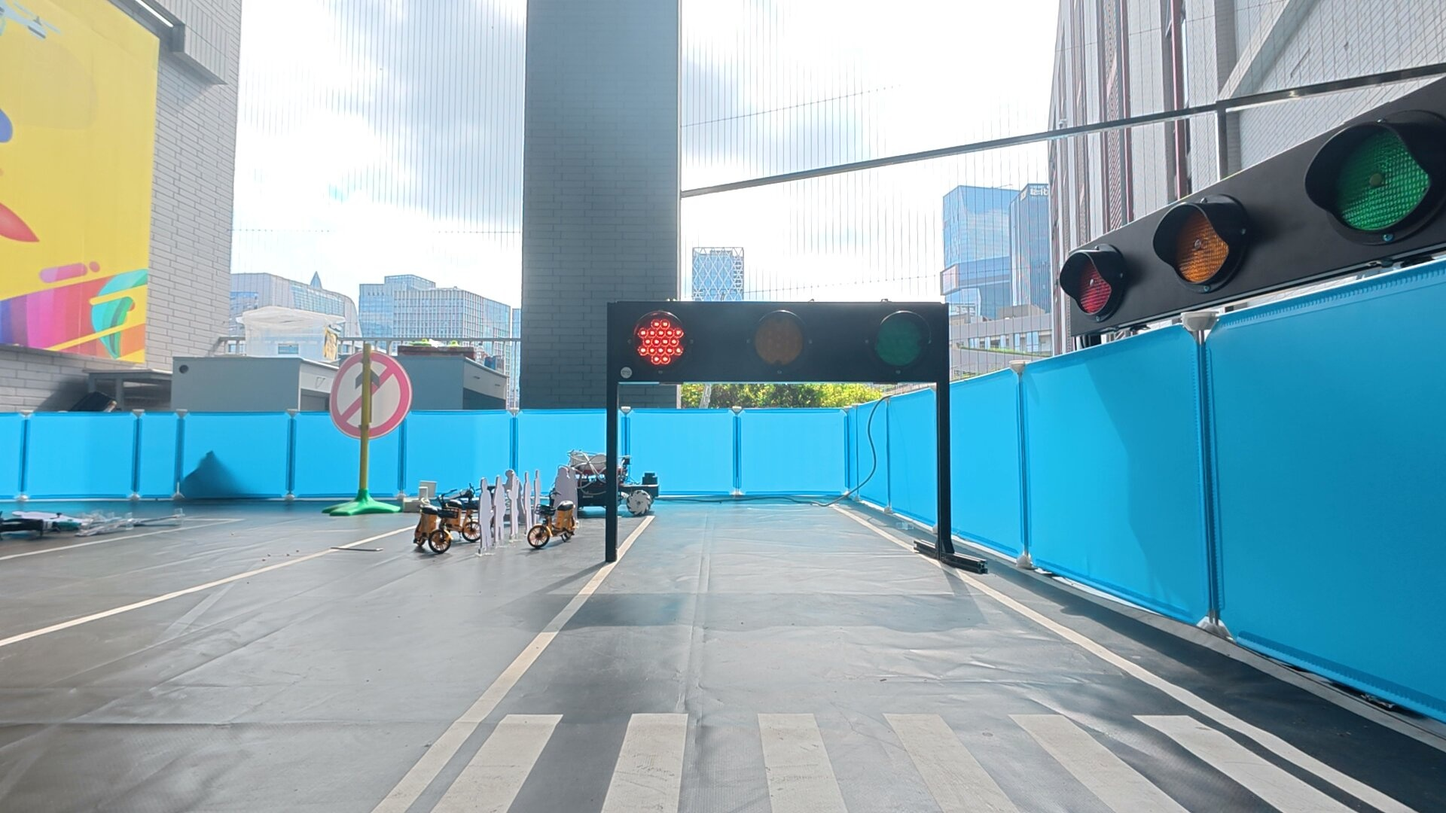stop: (633, 312, 688, 371)
